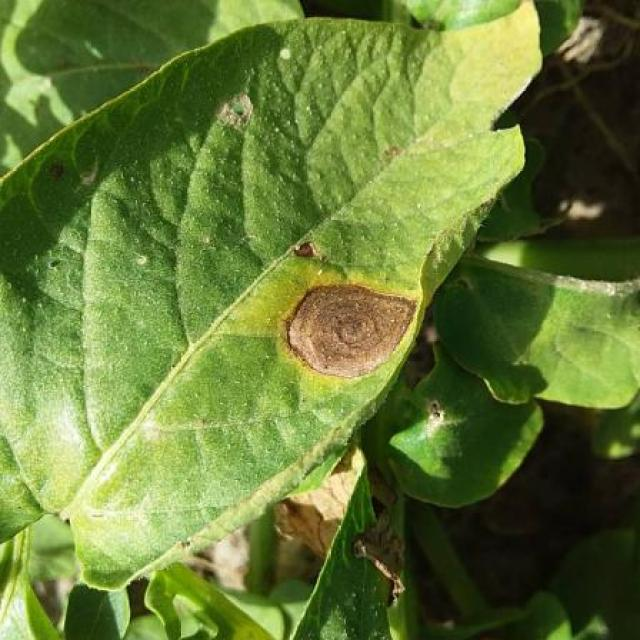Early Blight: (0, 0, 541, 590)
